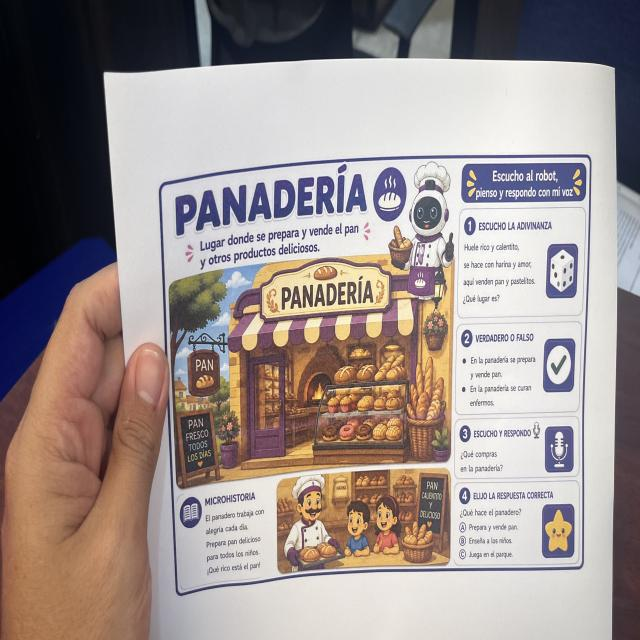panaderia: (156, 150, 594, 602)
